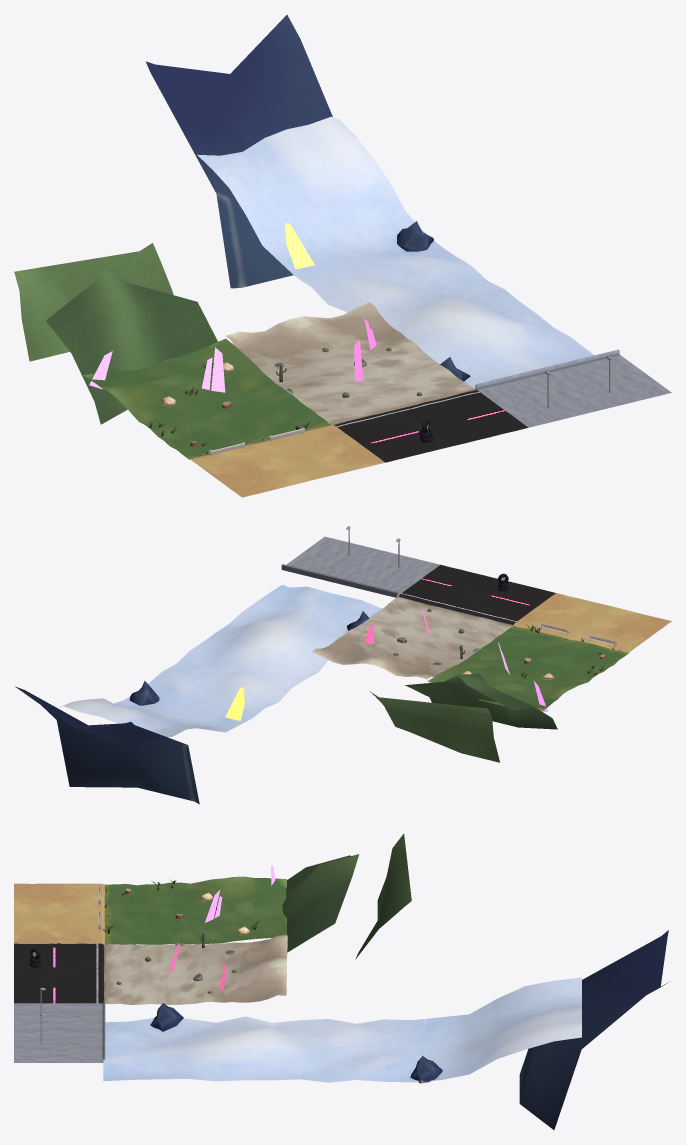
Rendered from WorldSelect_ForBeta.fbx.
The picture shows the model from 3 angles, top to bottom: view 1: azimuth 30°, elevation 25°; view 2: azimuth 150°, elevation 25°; view 3: azimuth 270°, elevation 25°; orthographic projection. The views are drawn at different scales.
Parts seen in each view (by area): view 1: geo_WorldSelect; view 2: geo_WorldSelect; view 3: geo_WorldSelect.
Boxes of the visible parts, x1,y1,x2,y2 form: geo_WorldSelect: [14, 14, 671, 497]; geo_WorldSelect: [15, 526, 671, 804]; geo_WorldSelect: [14, 834, 670, 1129].
Size of the model in its own units: 555 by 861 by 217.
